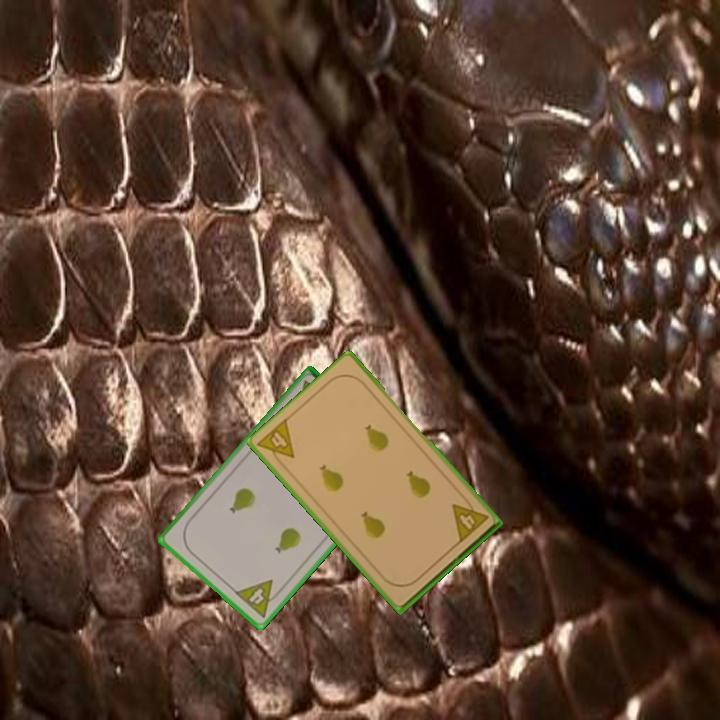4p: (231, 576, 286, 621), (254, 415, 297, 471), (448, 493, 491, 546)
